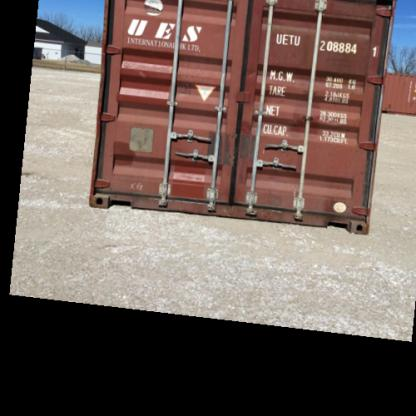Damage: (202, 127, 267, 164), (320, 26, 362, 76), (254, 190, 292, 218), (318, 196, 350, 228), (290, 101, 320, 130), (133, 57, 150, 82), (126, 172, 146, 192)
